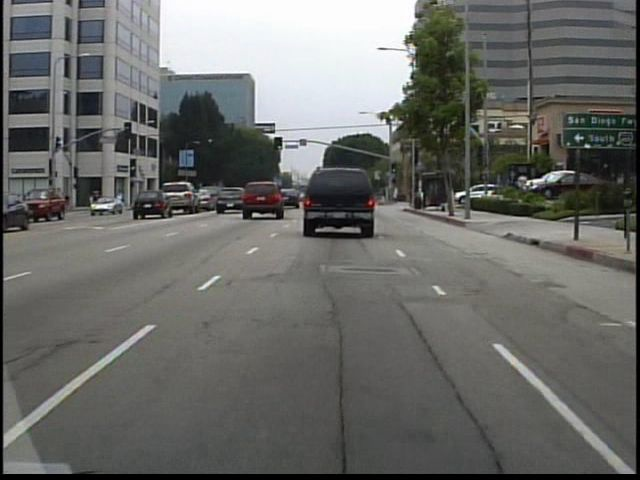person: (116, 188, 129, 212), (392, 183, 404, 205)
